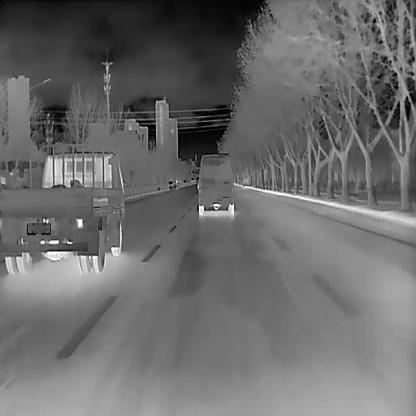car: (196, 153, 234, 216), (241, 176, 251, 186), (167, 180, 174, 186)
truck: (0, 144, 134, 274)
